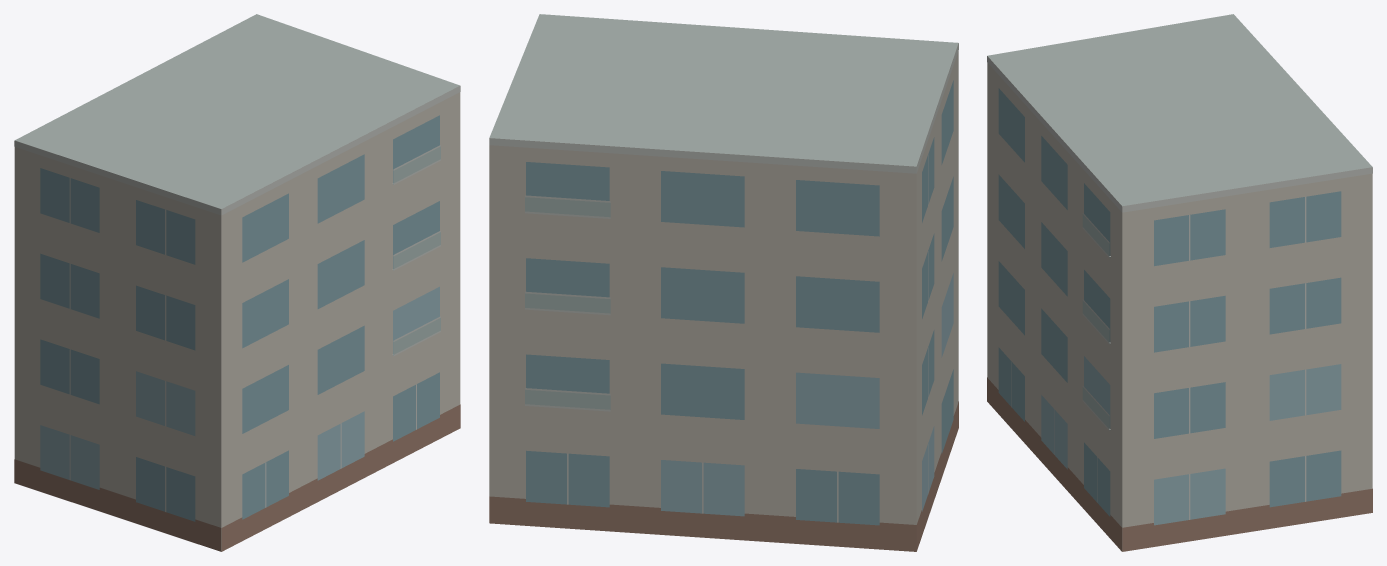
The model's file is survey-upis-32687799.glb.
3 renders of one model, left to right at view 1: azimuth 30°, elevation 25°; view 2: azimuth 150°, elevation 25°; view 3: azimuth 270°, elevation 25°, orthographic. The views are drawn at different scales.
Parts seen in each view (by area): view 1: survey-upis-32687799.tmp; view 2: survey-upis-32687799.tmp; view 3: survey-upis-32687799.tmp.
Part boxes in pixels (bbox=[...]): survey-upis-32687799.tmp: bbox=[14, 14, 460, 551]; survey-upis-32687799.tmp: bbox=[489, 14, 958, 551]; survey-upis-32687799.tmp: bbox=[987, 14, 1372, 551].
Size of the model in its own units: 15.76 by 13.2 by 13.36.
